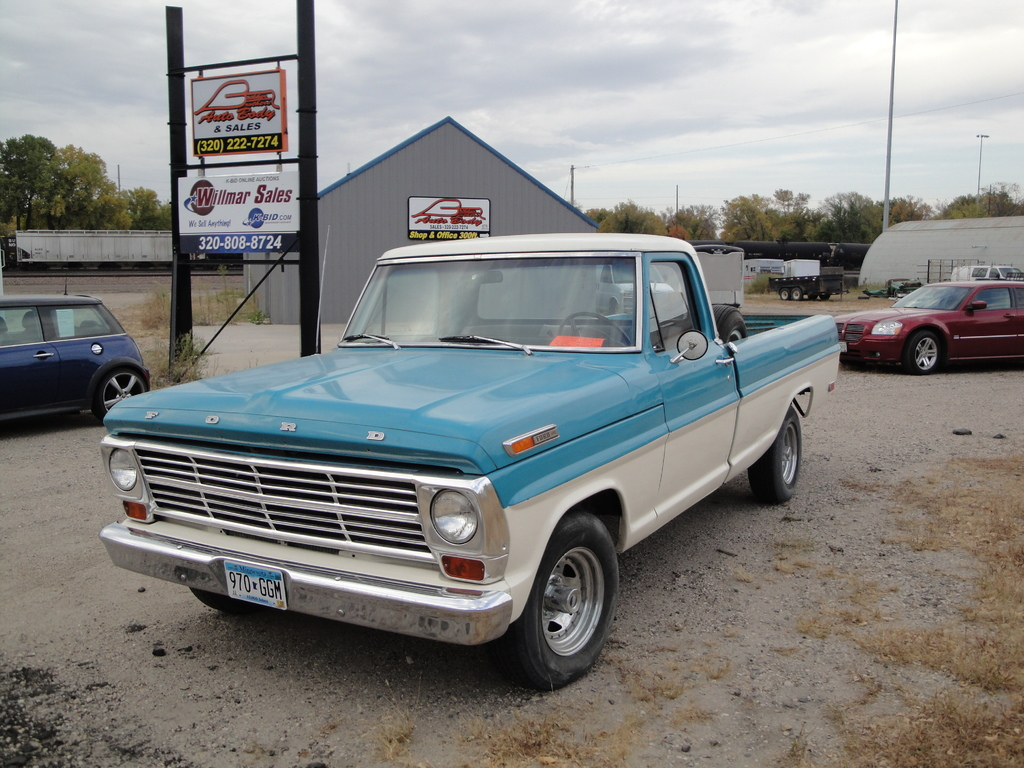Car: (92, 222, 851, 689), (0, 291, 154, 440), (837, 277, 1018, 376)
